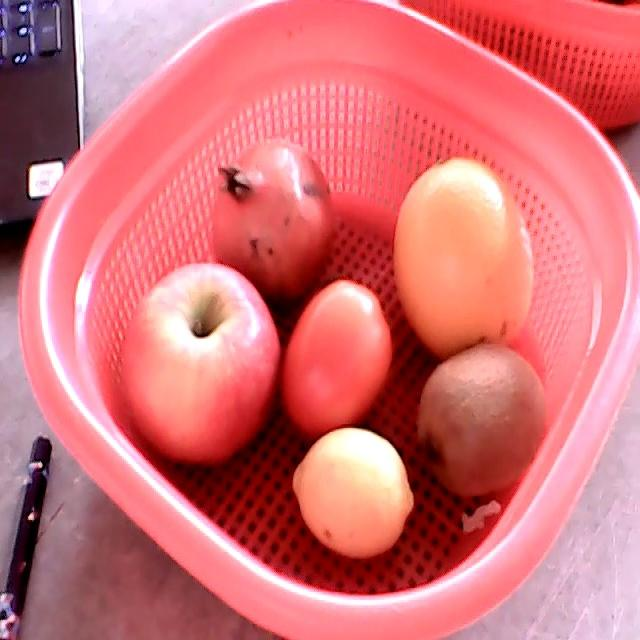apple: (119, 263, 280, 468)
kiwi: (419, 344, 547, 497)
lemon: (293, 427, 413, 558)
orange: (393, 157, 533, 358)
pomegranate: (210, 142, 335, 299)
tomato: (281, 281, 393, 436)
